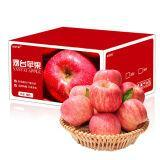apple: (42, 51, 96, 98), (59, 97, 94, 126), (119, 99, 148, 133), (91, 81, 122, 111), (87, 112, 121, 136), (122, 82, 147, 102)
